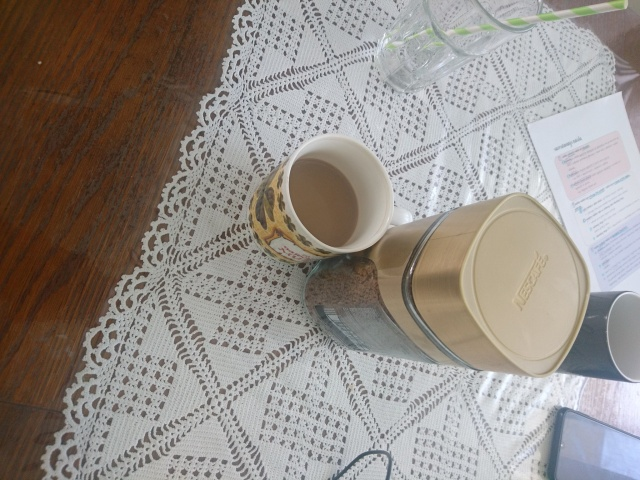Nescafe Gold 225g: (298, 189, 594, 381)
